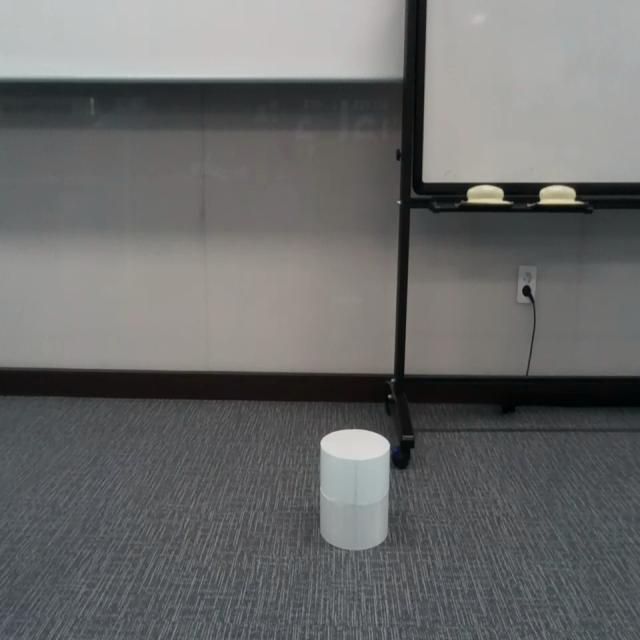cylinder: (319, 427, 389, 550)
